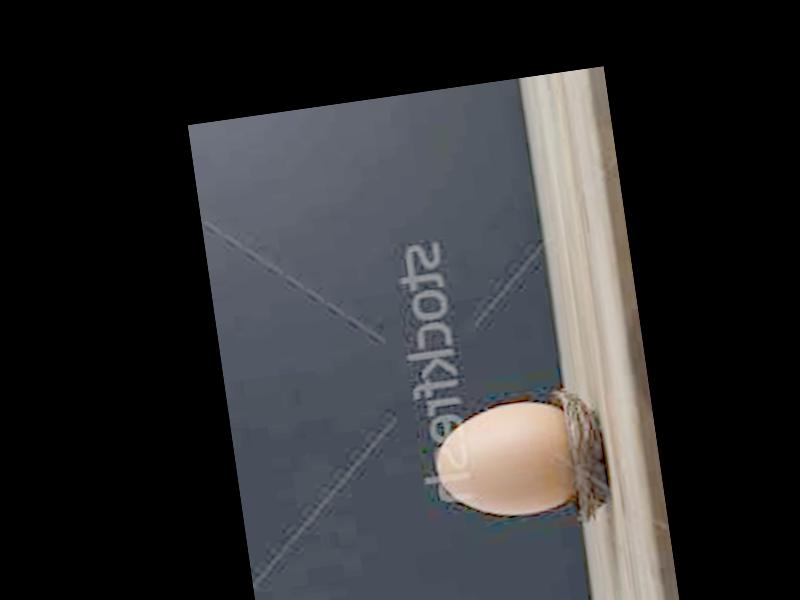Eggs: (431, 399, 580, 526)
